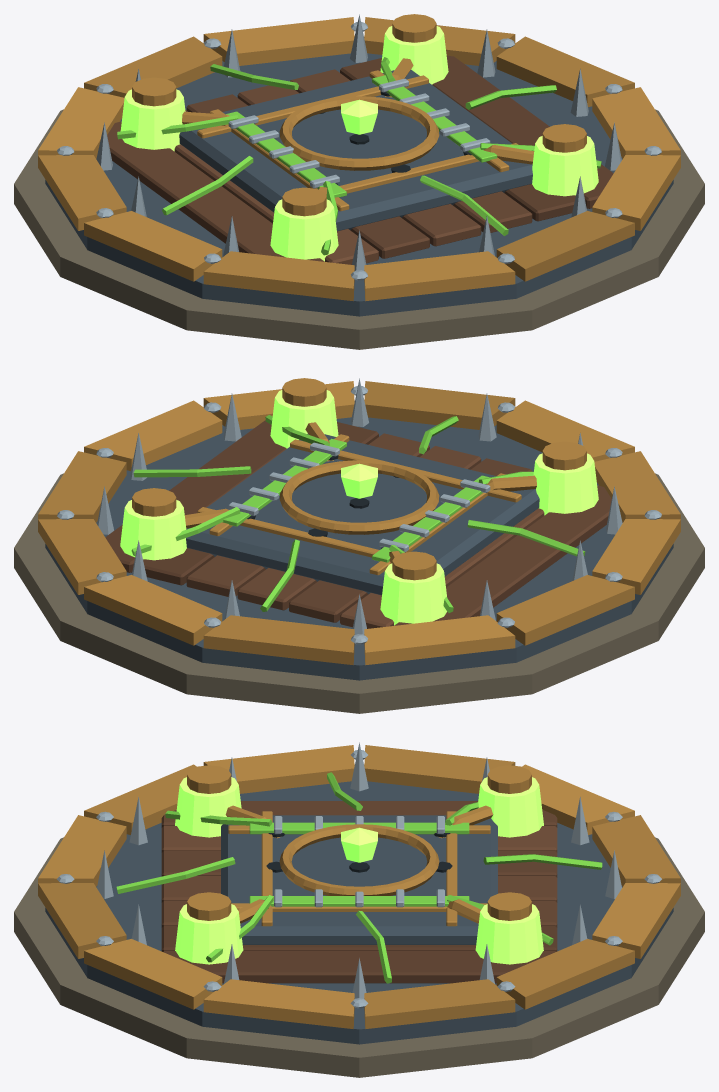
The model's file is trap__toxica__L20.glb.
3 views of the same model, one above another, from view 1: azimuth 30°, elevation 25°; view 2: azimuth 150°, elevation 25°; view 3: azimuth 270°, elevation 25° (orthographic).
Parts seen in each view (by area): view 1: structure, weapon; view 2: structure, weapon; view 3: structure, weapon.
Boxes of the visible parts, x1,y1,x2,y2 form: structure: (14,17,704,349); weapon: (96,14,621,270); structure: (14,381,704,713); weapon: (97,378,622,634); structure: (14,745,704,1077); weapon: (97,742,621,998).
Bounding box in the file's own units: 0.8228 × 0.1364 × 0.8228.
